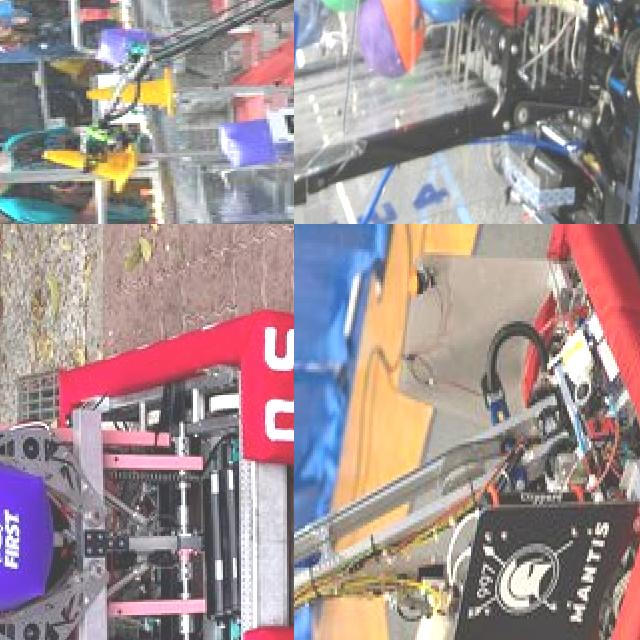FRC-Robots: (294, 224, 640, 640), (0, 297, 294, 640), (294, 0, 640, 224), (36, 0, 294, 201)
